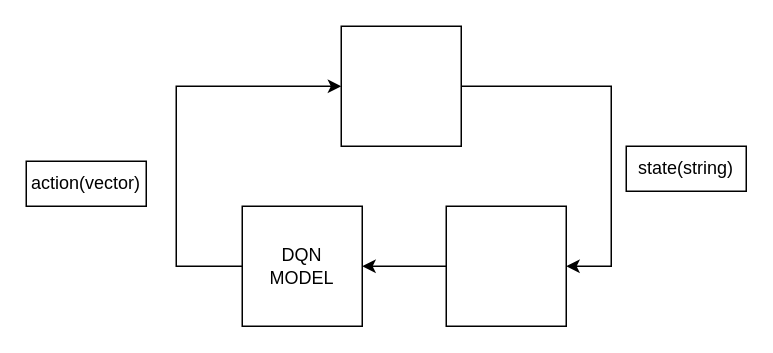
This 773x353 diagram has some shape labels left out. The shapes that lost their labels are listed below. From the top down, each one's centre as x and y in pixels, then its label:
the point at 400,85: env
the point at 505,265: str2vec process
